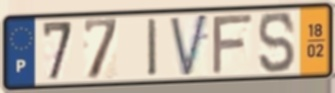7: (82, 16, 121, 82), (40, 20, 75, 84)
F: (210, 11, 255, 77)
I: (146, 16, 160, 80)
S: (256, 10, 297, 76)
V: (167, 11, 211, 81)
